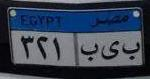1: (52, 37, 64, 62)
2: (36, 35, 50, 61)
3: (20, 35, 35, 60)
baa: (123, 39, 140, 60), (80, 43, 99, 61)
yaa: (100, 41, 119, 60)
